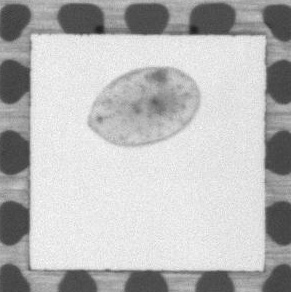DIE_INK: (79, 60, 208, 155)
